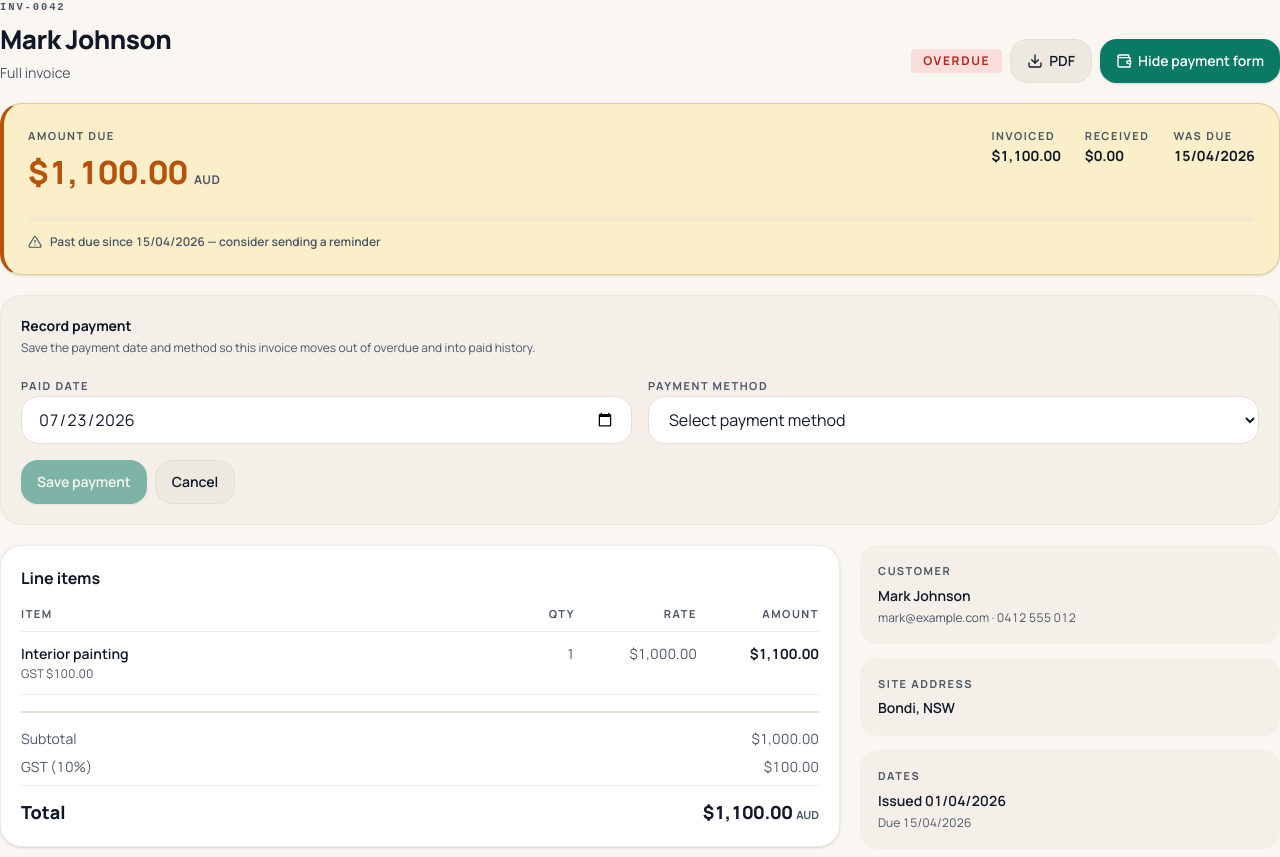
Test: invoice action error recovery › shows thrown payment errors while keeping the detail payment form usable
Select "Card" in the dropdown labelled "Payment method" at (954, 420), box [648,396,1259,444]
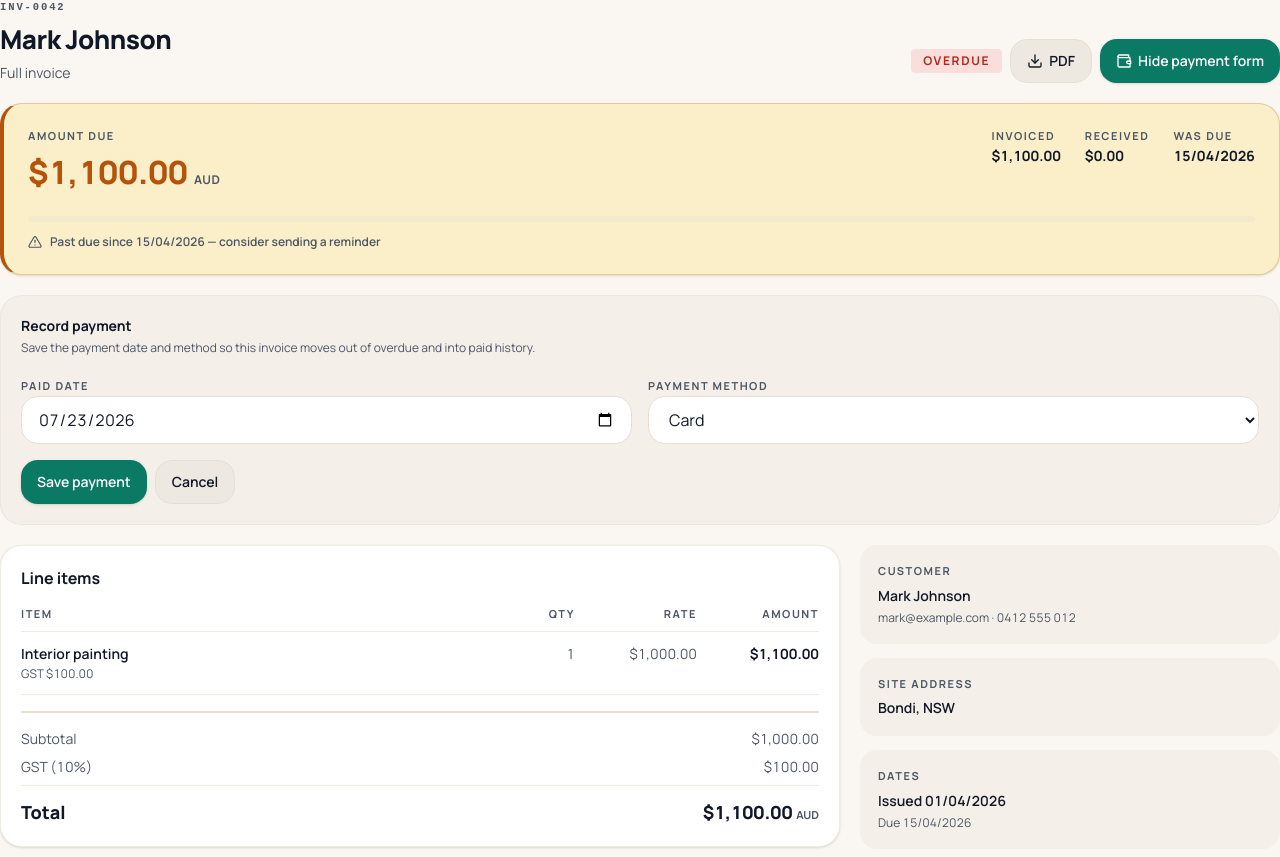
Click the button "Save payment" at (84, 482), box [21,460,147,504]
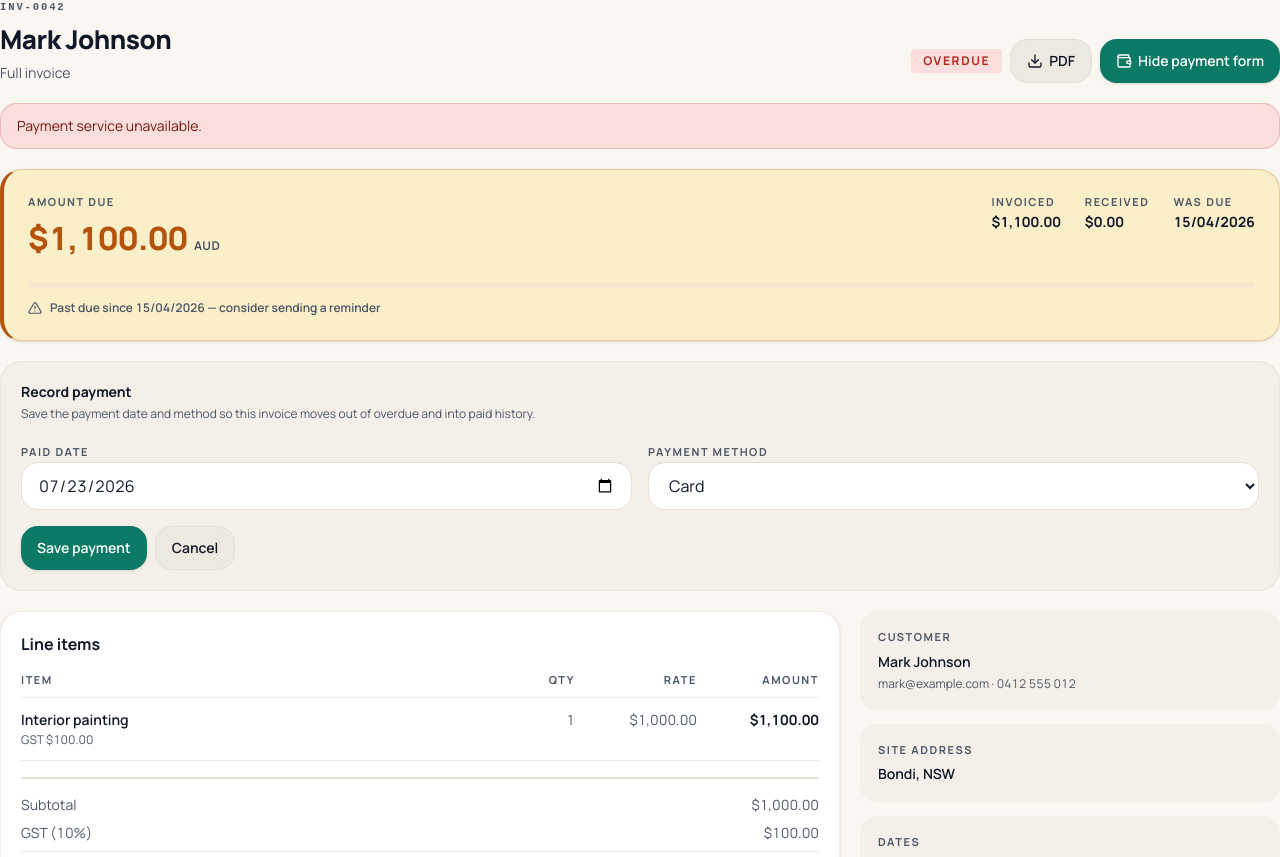
Result: the button "Save payment" is enabled at [21,526,147,570]
Result: the text "Payment service unavailable." is shown at [0,103,1279,149]
